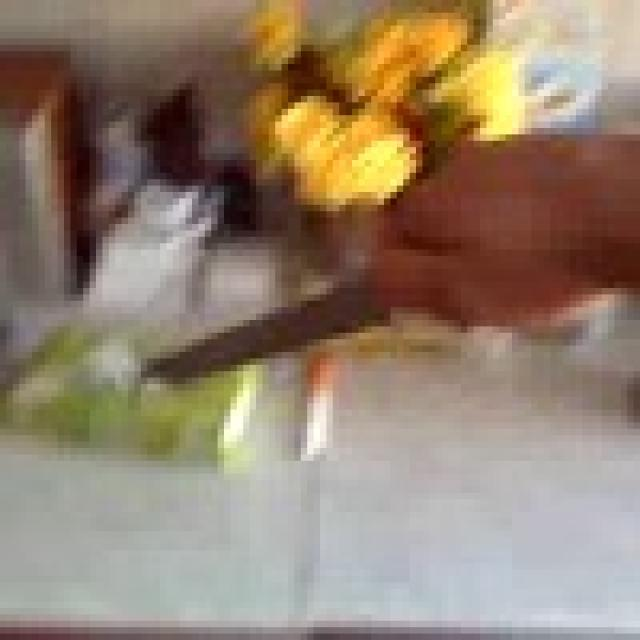knife: (140, 255, 404, 390)
